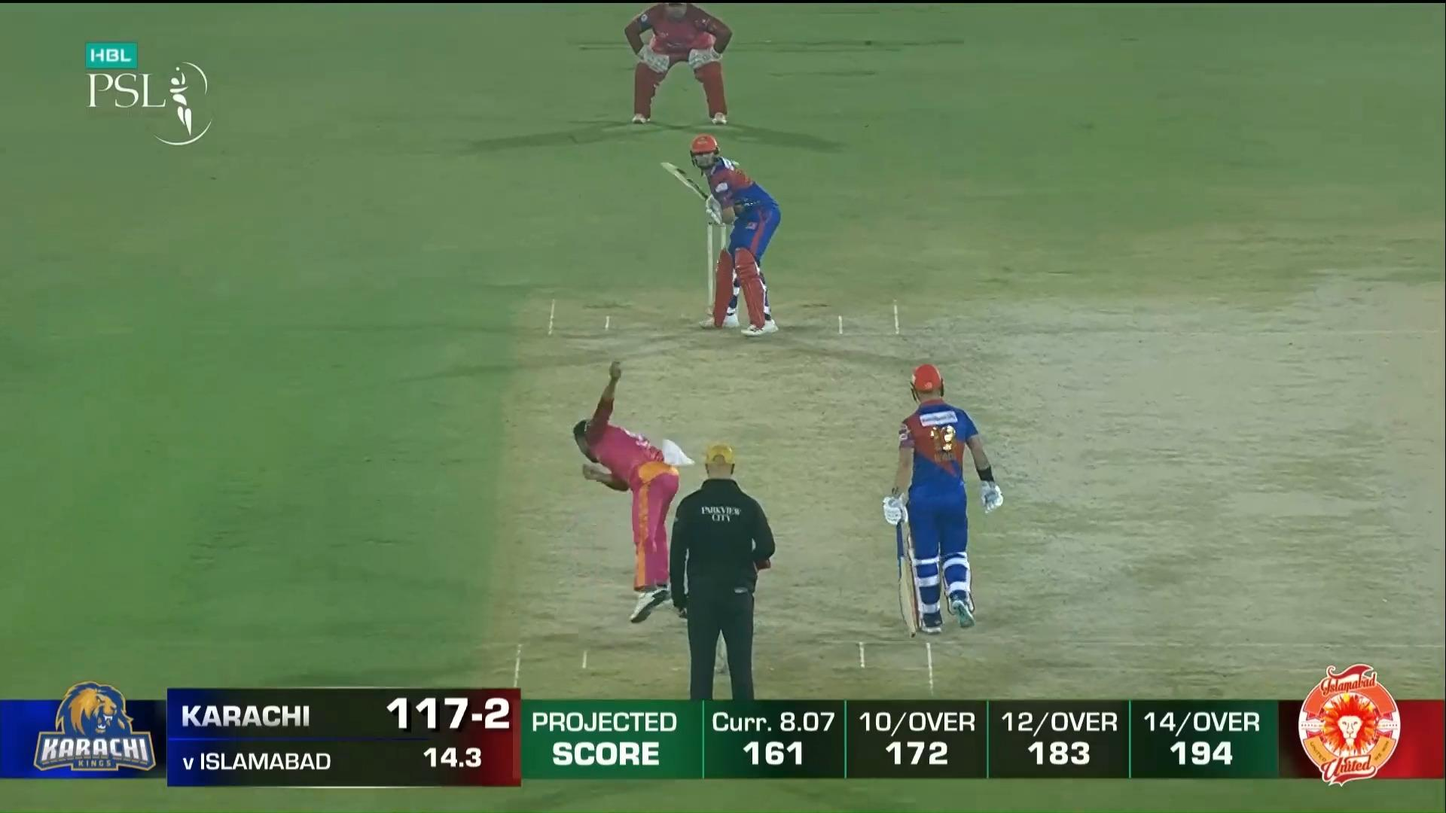batsman: (659, 133, 783, 337)
